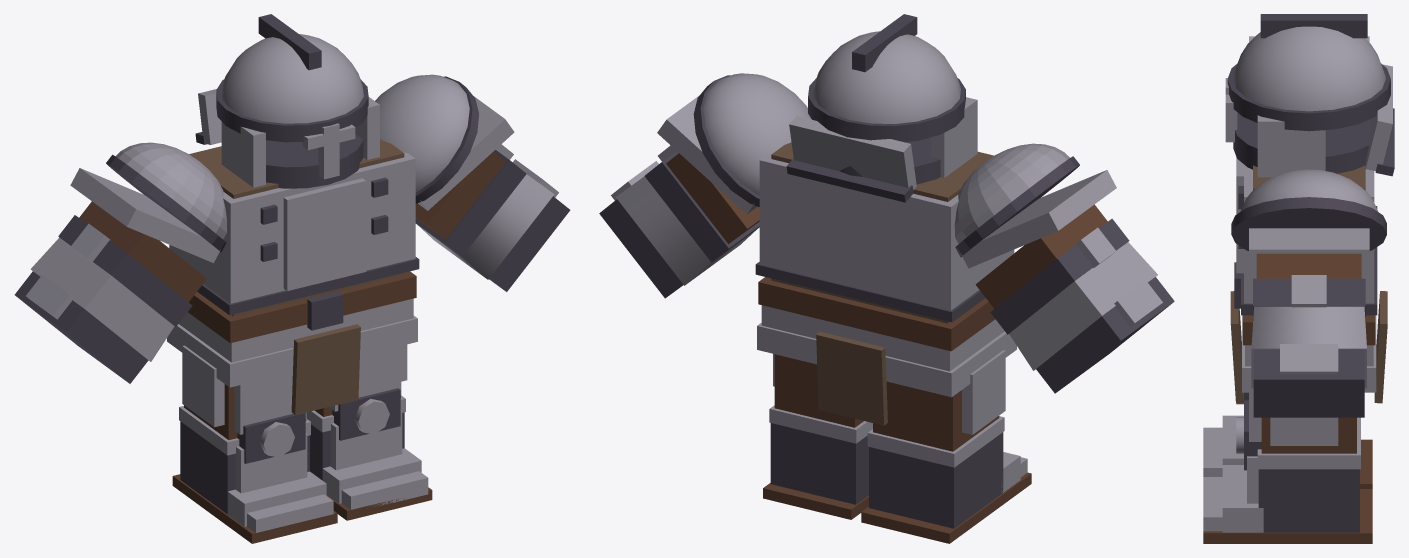
Rendered from VanguardArmorSet.glb.
3 views of the same model, side by side, from view 1: azimuth 30°, elevation 25°; view 2: azimuth 150°, elevation 25°; view 3: azimuth 270°, elevation 25° (orthographic). The views are drawn at different scales.
Visible parts, largest first — view 1: Right (×3), Chestplate, Left (×3), Helmet; view 2: Right (×3), Chestplate, Left (×3), Helmet; view 3: Left (×3), Helmet, Chestplate, Right.
Boxes of the visible parts, x1,y1,x2,y2 form: Right (×3): (14,142,337,543); Chestplate: (167,134,419,414); Left (×3): (306,74,570,520); Helmet: (195,14,379,187); Right (×3): (861,143,1174,543); Chestplate: (755,137,1016,425); Left (×3): (599,73,872,519); Helmet: (786,14,977,202); Left (×3): (1203,169,1386,543); Helmet: (1225,14,1394,177); Chestplate: (1230,114,1387,403); Right: (1203,415,1372,488).
Size of the model in its own units: 6.41 by 5.44 by 1.97.
